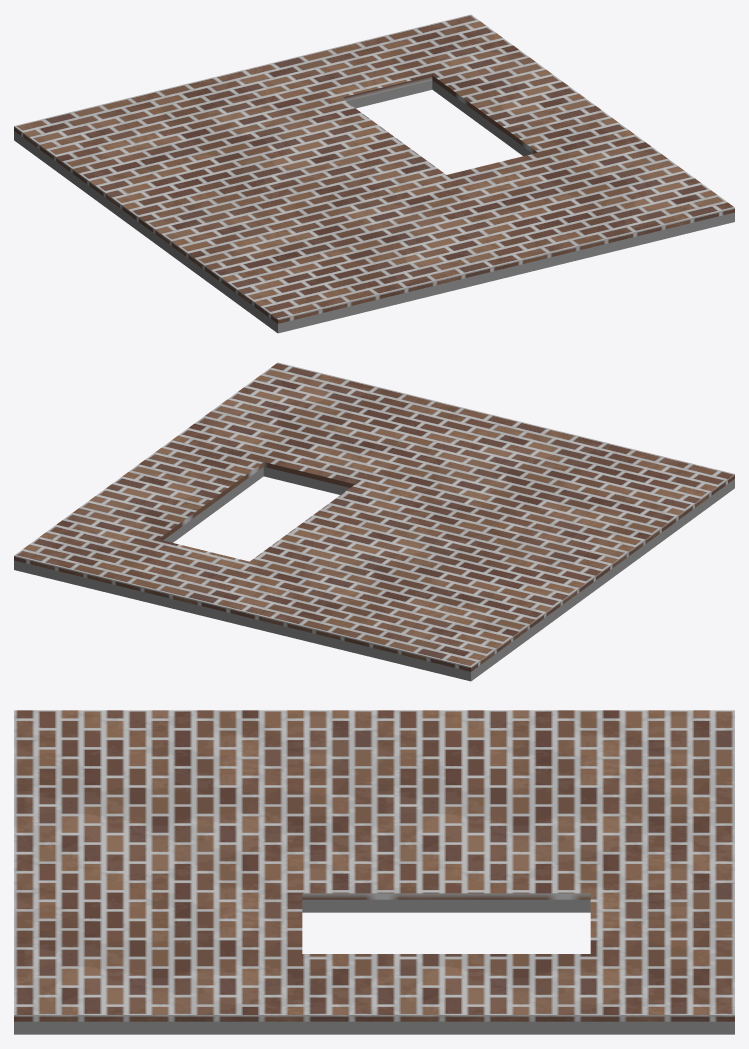
The model's file is Stair_Floor_001.FBX.
The picture shows the model from 3 angles, top to bottom: view 1: azimuth 30°, elevation 25°; view 2: azimuth 150°, elevation 25°; view 3: azimuth 270°, elevation 25°; orthographic projection. The views are drawn at different scales.
Parts seen in each view (by area): view 1: Stair_Floor_001; view 2: Stair_Floor_001; view 3: Stair_Floor_001.
Boxes of the visible parts, box(x1,y1,x2,y2) form: Stair_Floor_001: box(14, 14, 734, 333); Stair_Floor_001: box(14, 362, 734, 681); Stair_Floor_001: box(14, 710, 734, 1034).
Size of the model in its own units: 500 by 500 by 15.
